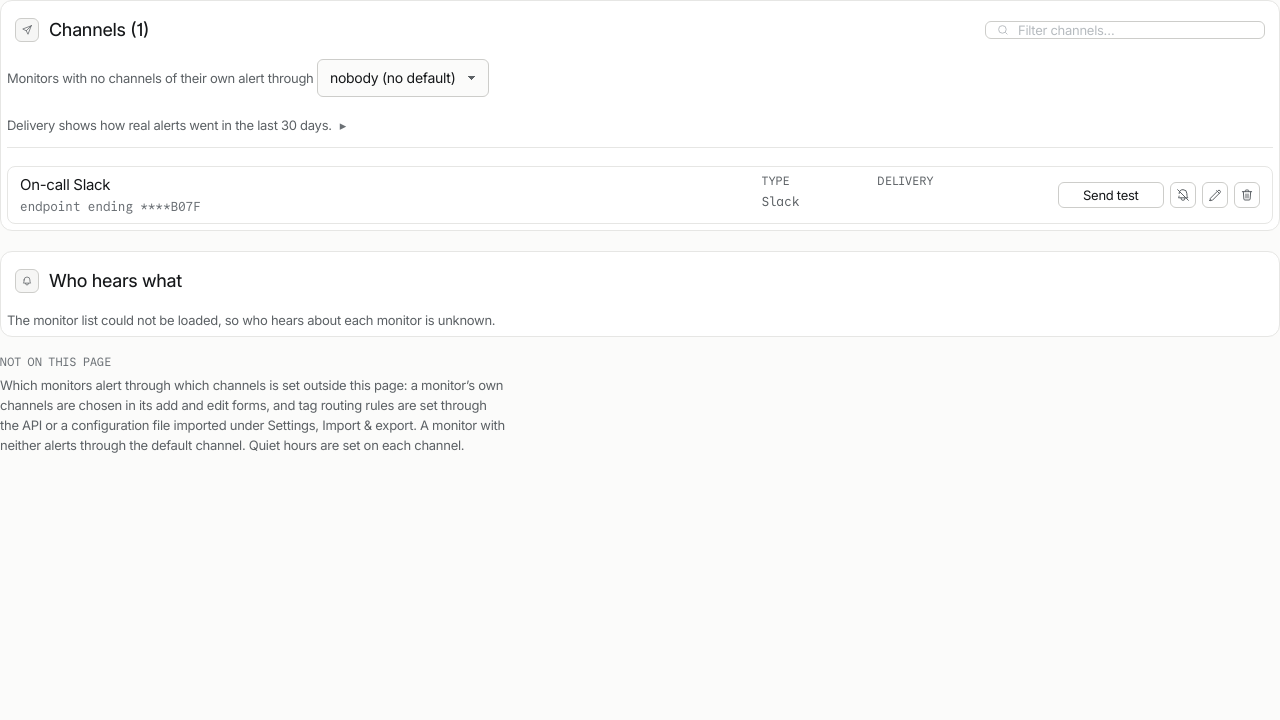
it: LiveNotifications › drops a test result even when the edited window is refused
This screenshot has width=1280, height=720.
Click the button "Send test". click: (1111, 195)
box: [1058, 182, 1164, 208]
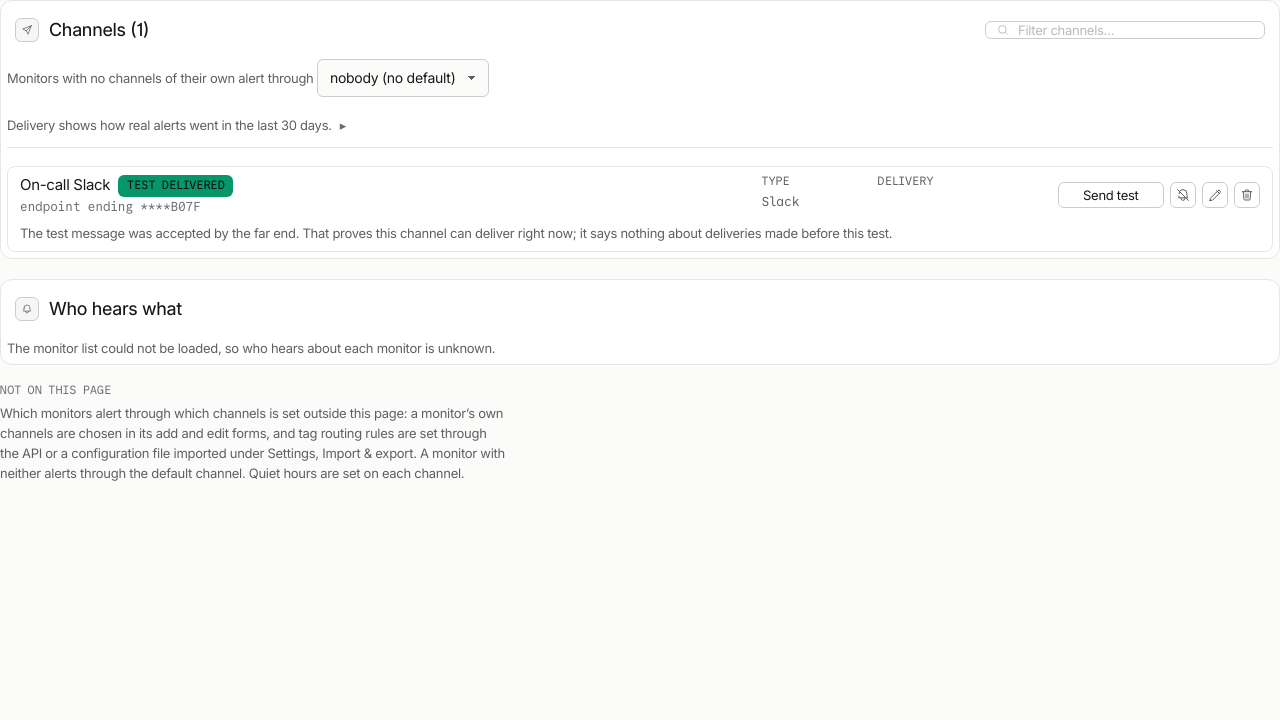
Now the text "Test delivered" is shown, box [118, 175, 233, 197]
Click the button named "Edit". click: (1215, 195)
box: [1202, 182, 1228, 208]
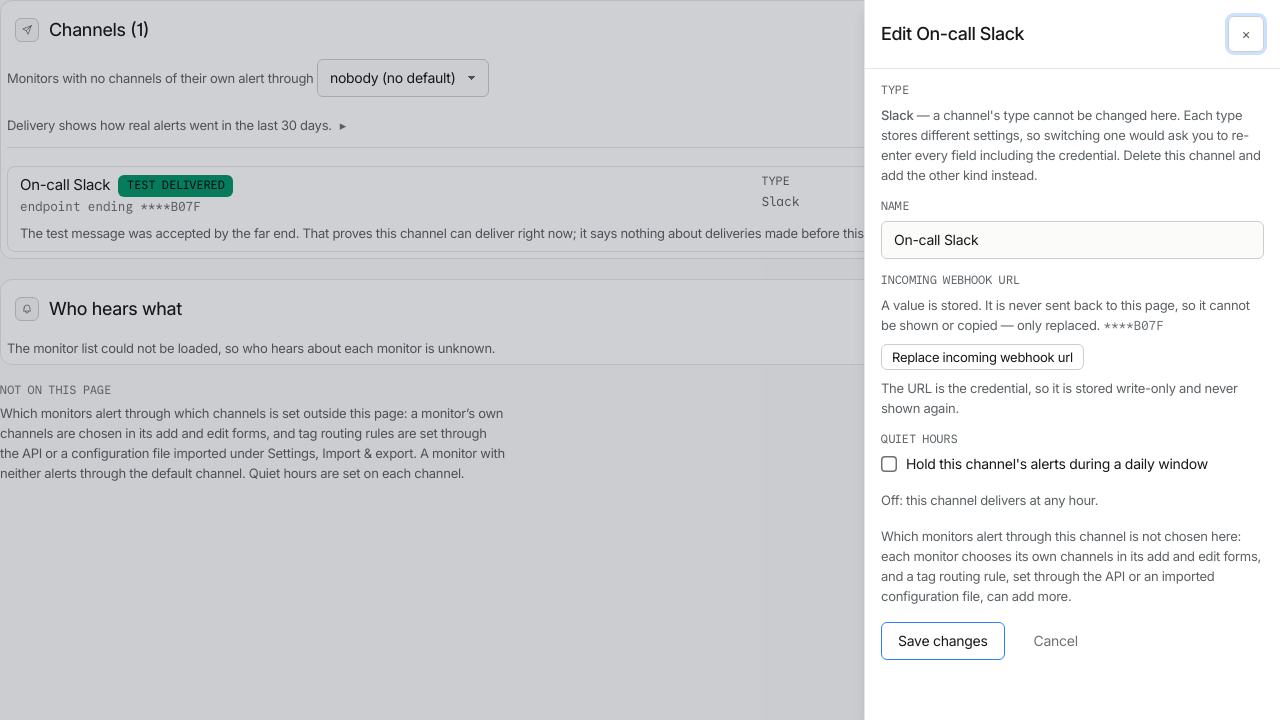
Click the checkbox labelled "Hold this channel's alerts during a daily window". click: (889, 464)
box: [876, 451, 902, 477]
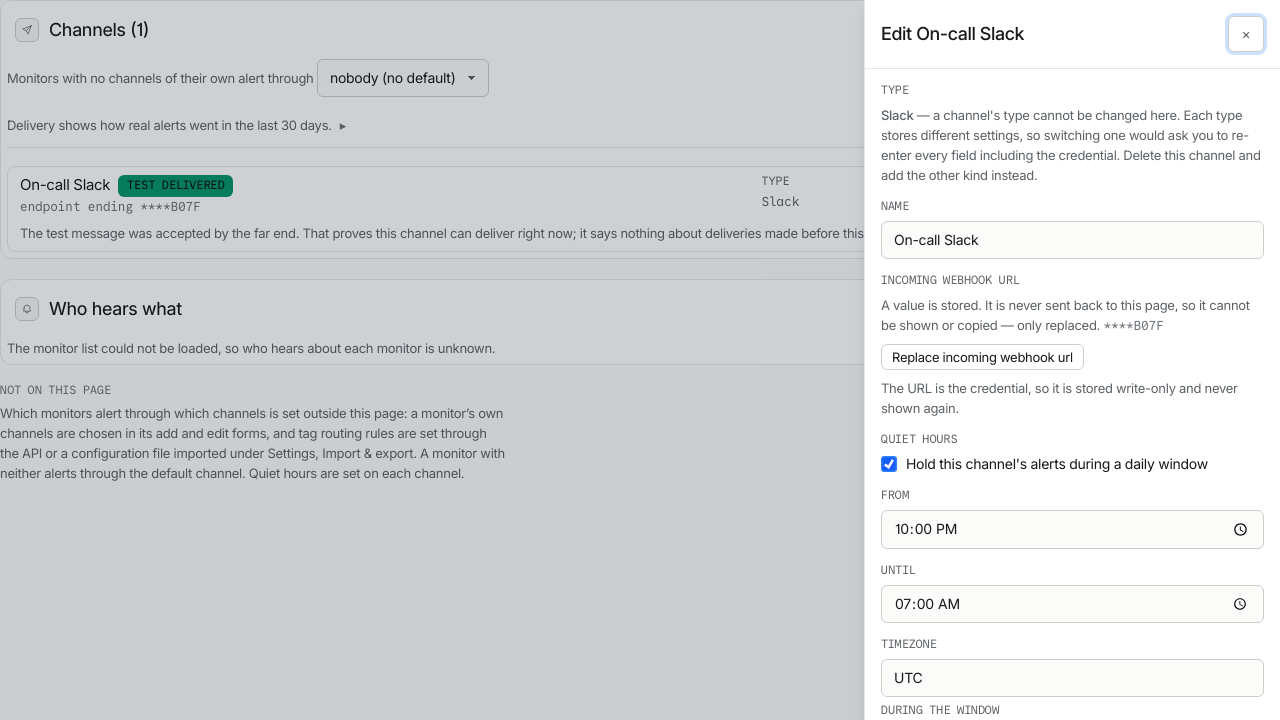
Replace the text in the field labelled "Timezone" with "Europe/Amsterdam". click: (1072, 678)
box: [881, 659, 1264, 697]
(page scrolled)
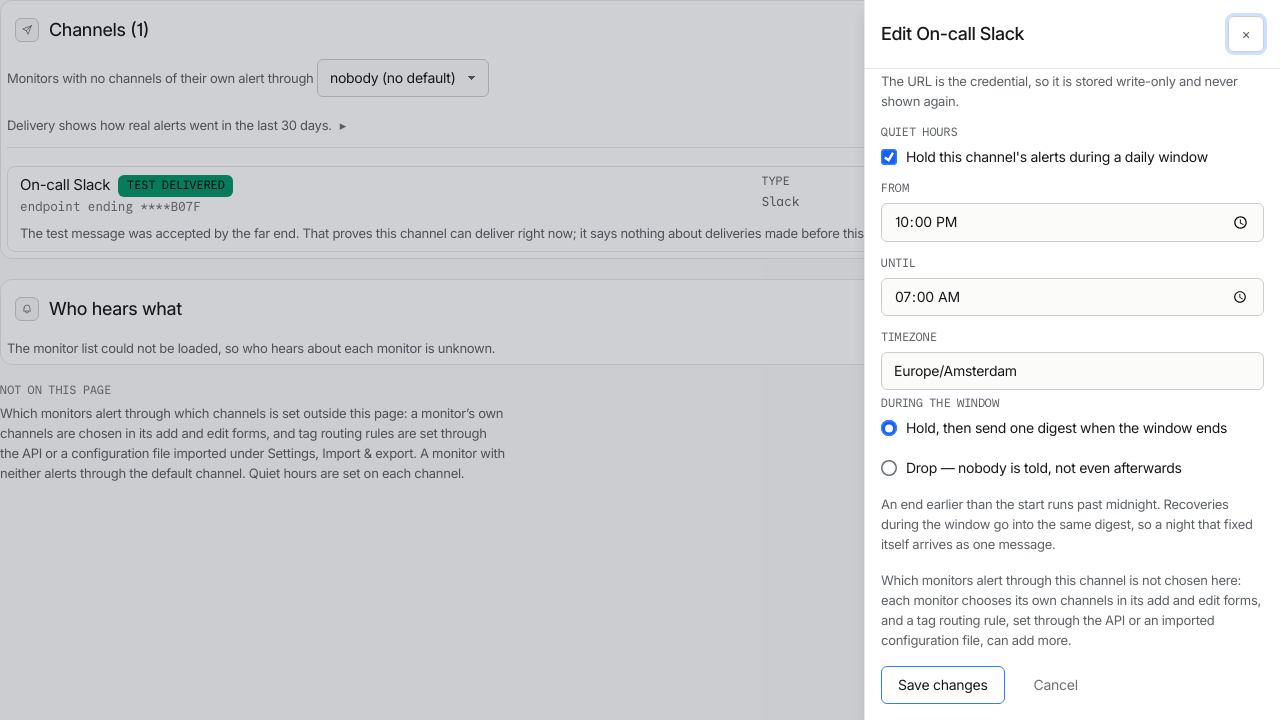
Click the button "Save changes". click: (943, 685)
box: [881, 666, 1004, 704]
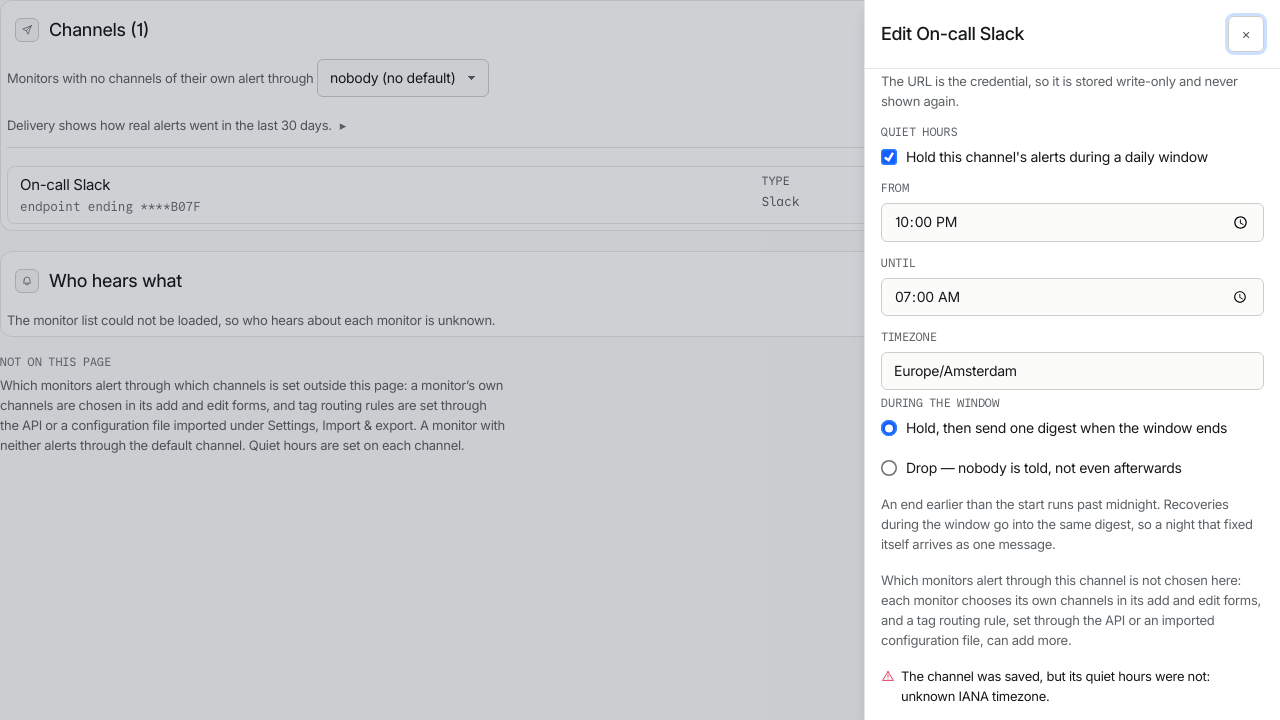
Now the text "quiet hours were not" is shown, box [901, 668, 1210, 704]
Now the text "Test delivered" is gone
